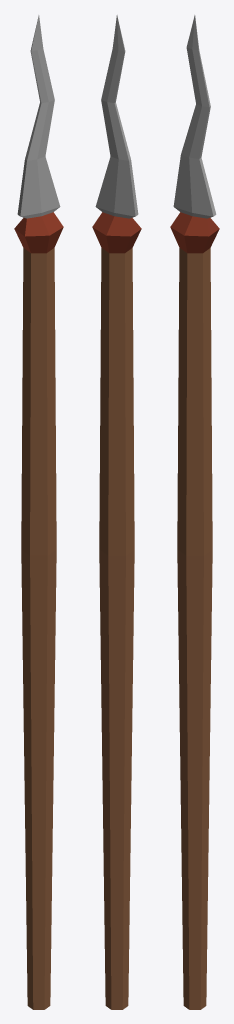
File: Spear_short_thin.fbx
3 renders of one model, left to right at view 1: azimuth 30°, elevation 25°; view 2: azimuth 150°, elevation 25°; view 3: azimuth 330°, elevation 25°, orthographic.
Parts seen in each view (by area): view 1: Spear_short_thin; view 2: Spear_short_thin; view 3: Spear_short_thin.
Part boxes in pixels (box(x1,y1,x2,y2)): Spear_short_thin: box(14, 15, 63, 1009); Spear_short_thin: box(92, 15, 141, 1009); Spear_short_thin: box(170, 15, 219, 1009).
Bounding box in the file's own units: 7.23 × 171 × 6.67.
